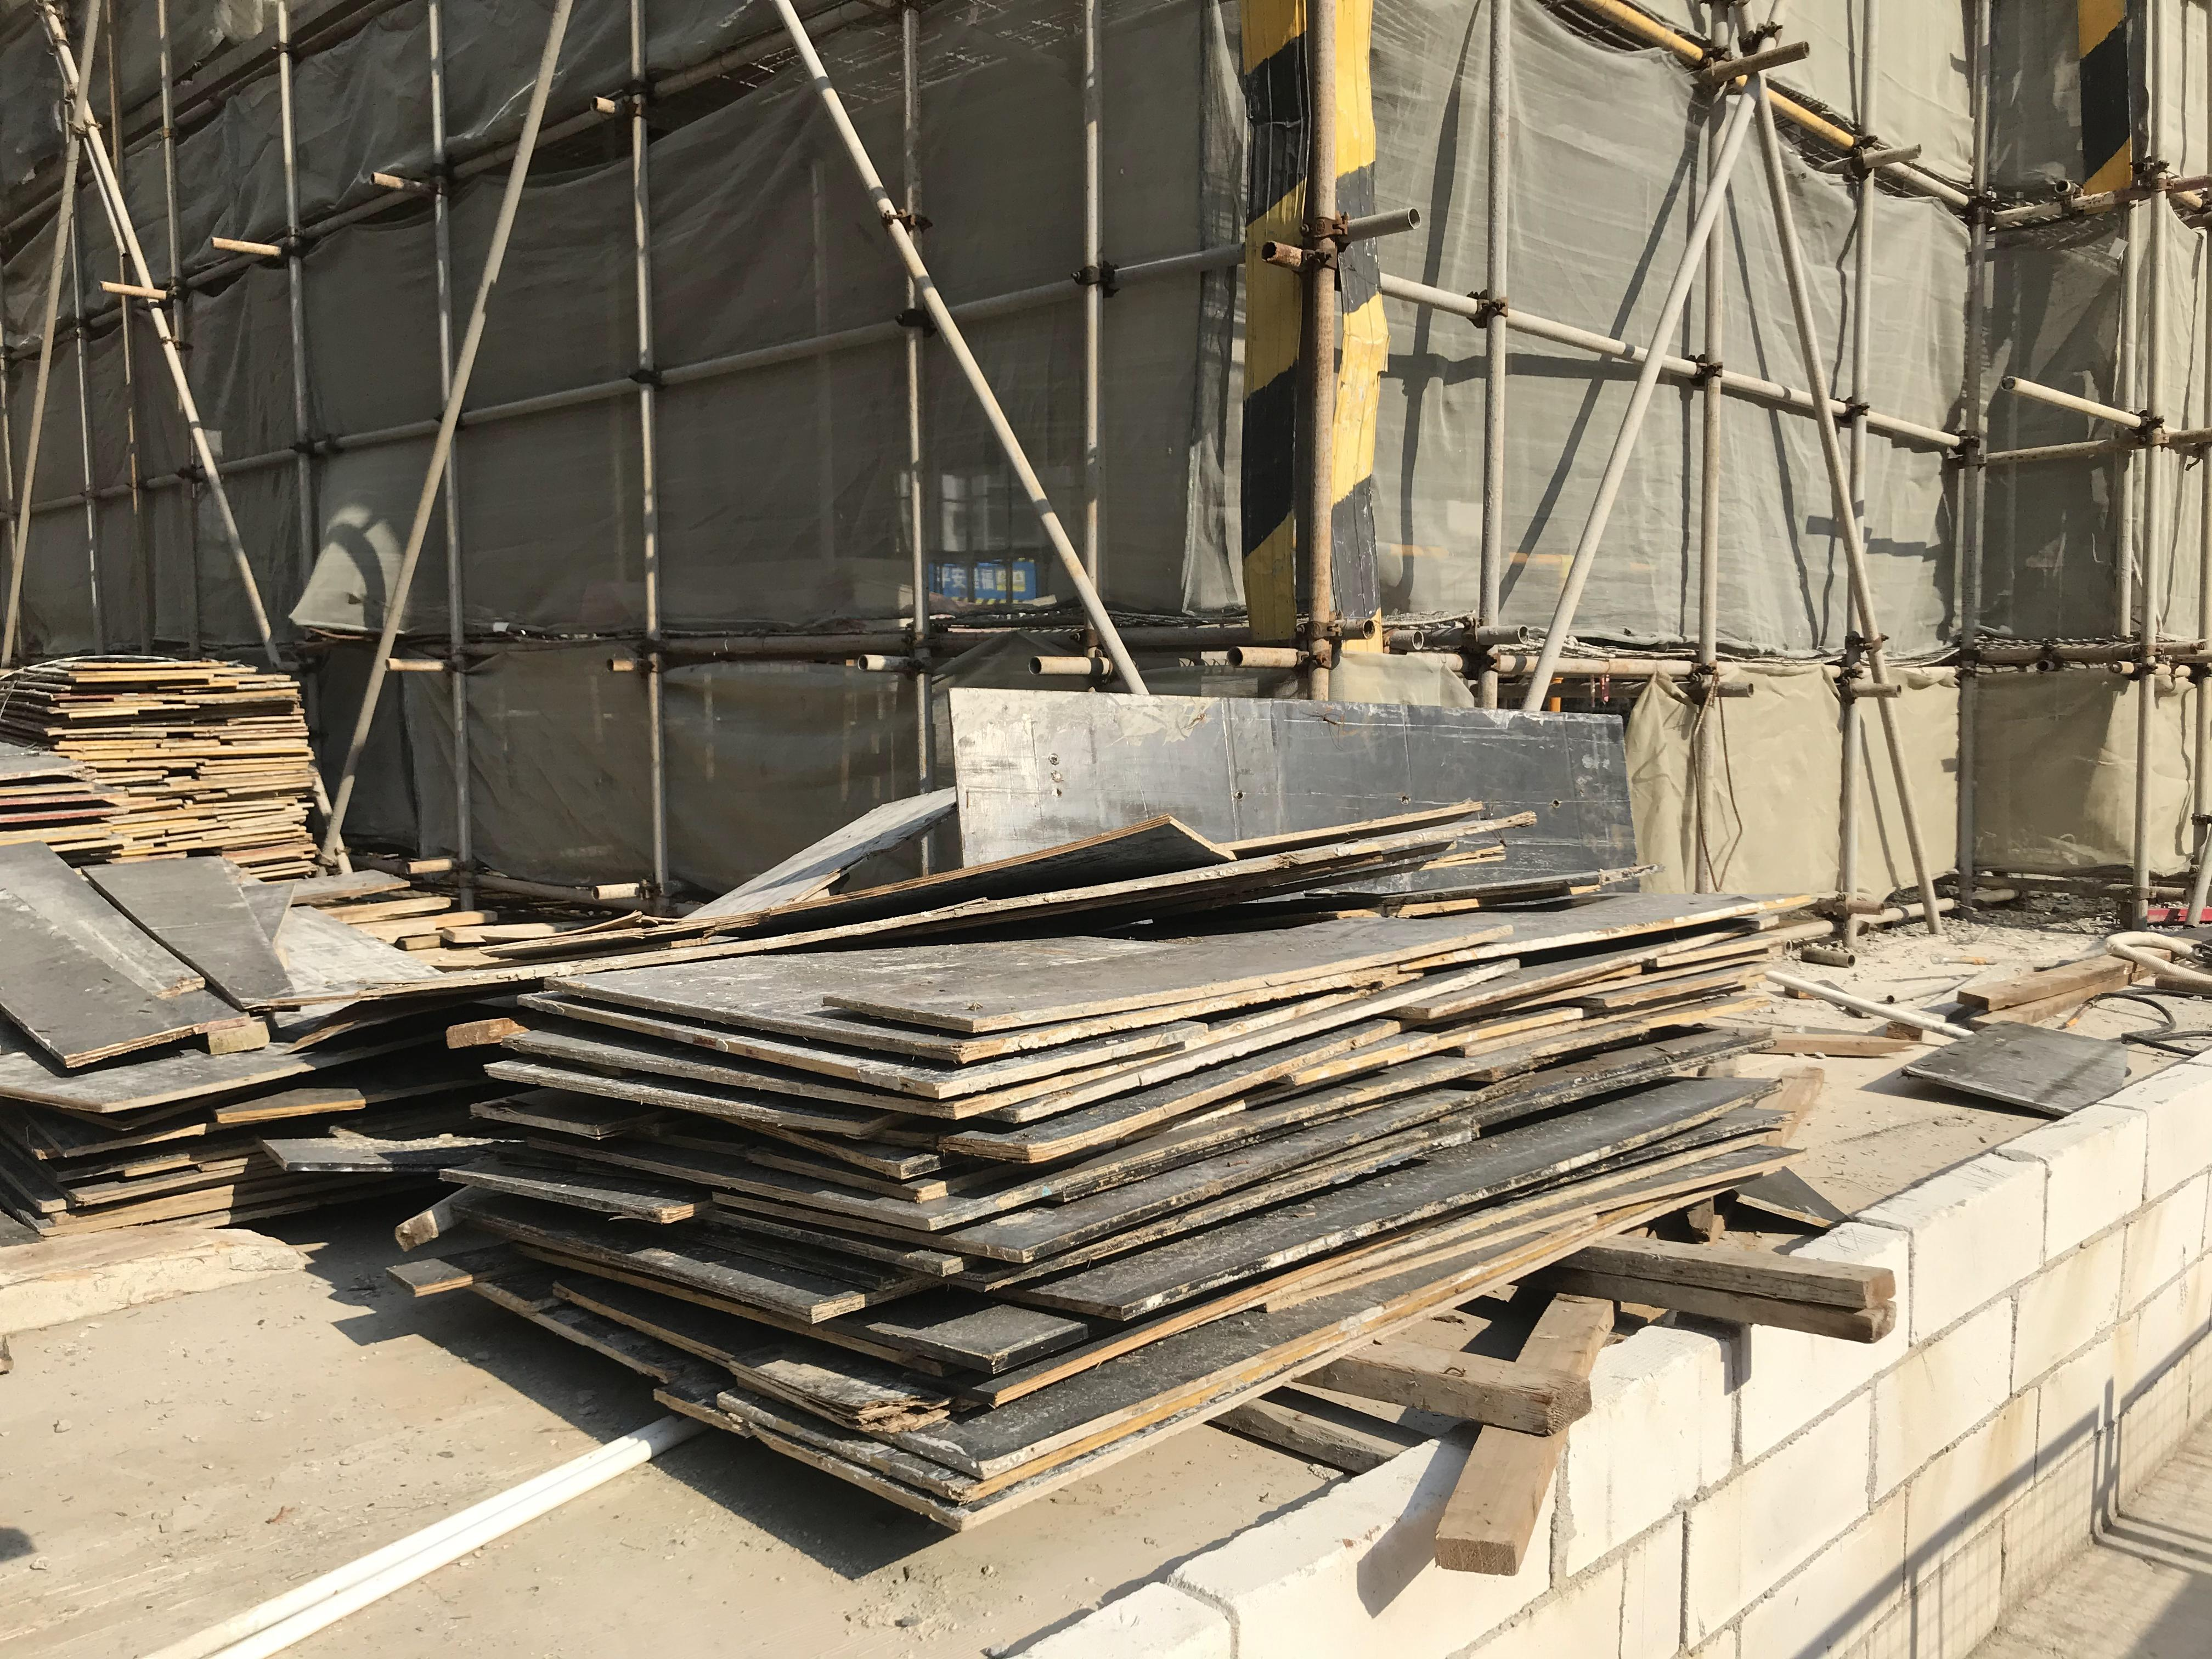board: (467, 863, 1787, 1539), (0, 868, 437, 1222), (0, 652, 319, 864)
slogan: (930, 563, 1035, 596)
